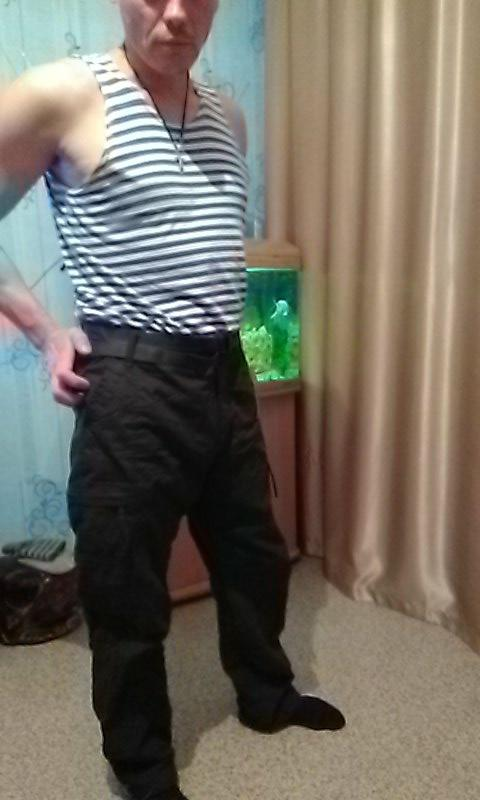pants: (61, 318, 291, 786)
